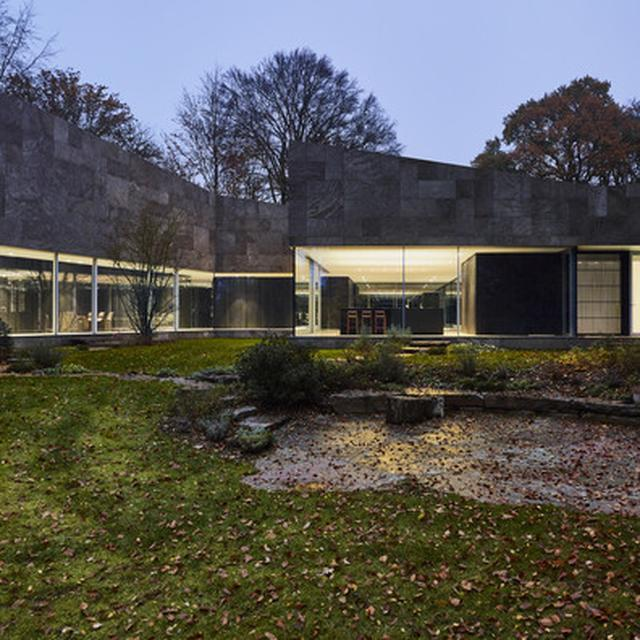building: (0, 85, 640, 344)
